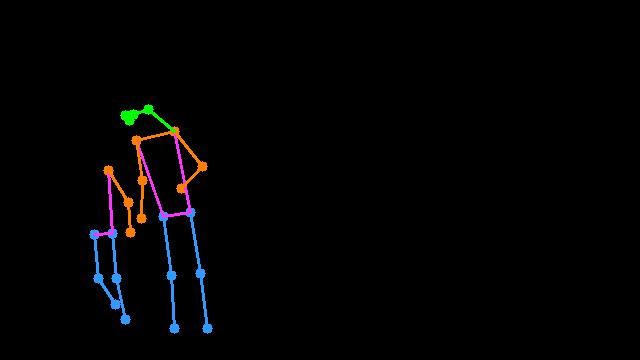normal: (67, 79, 221, 348)
